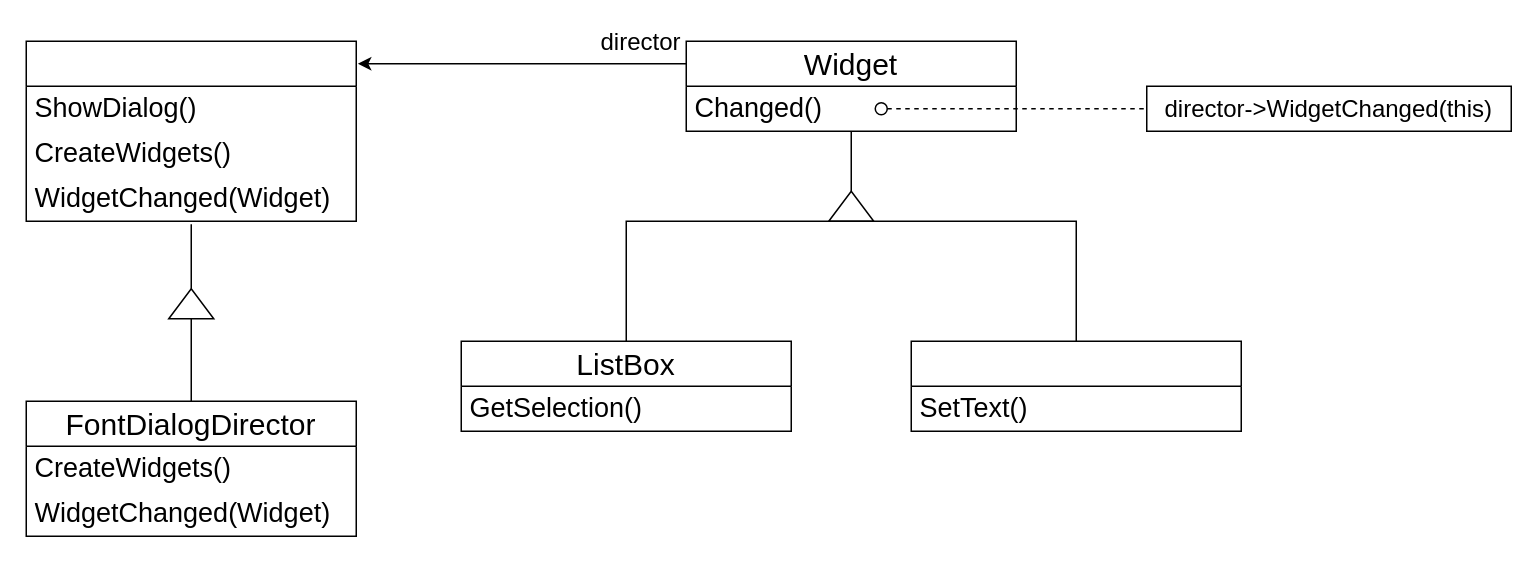
The diagram is 1538 pixels wide and 563 high, and some of its shapes have lost their labels. Here are the shapes that lost their labels. From the top down, the box of each, then its label:
(25, 40, 356, 221): DialogDirector
(910, 340, 1241, 431): EntryField
